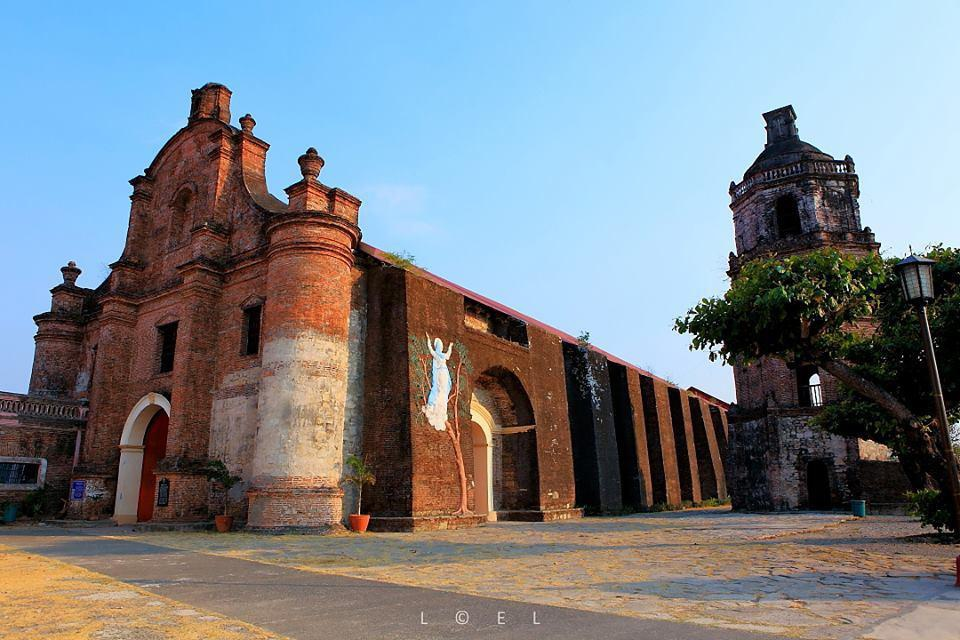santa_maria_church_santa_maria_ilocos_sur: (27, 70, 352, 543)
unfinished_paint: (200, 323, 362, 487)
